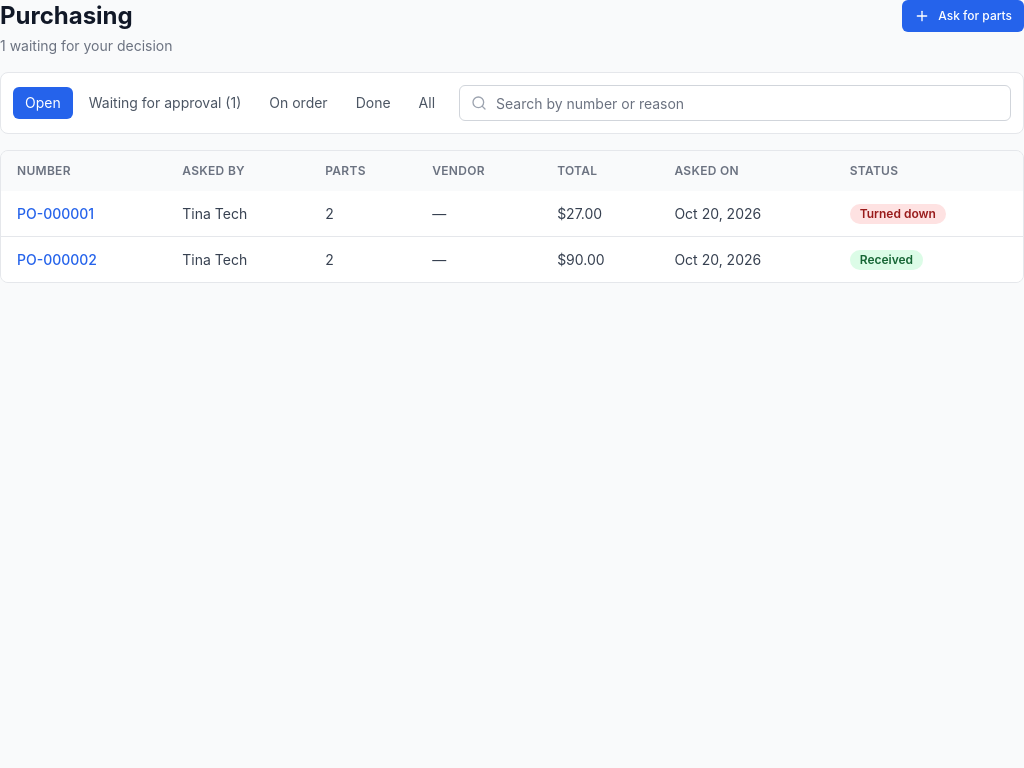
Scenario: PurchasingPage › shows why a request was turned down
Click the button "PO-000001": {"x": 56, "y": 214} [17,204,94,224]
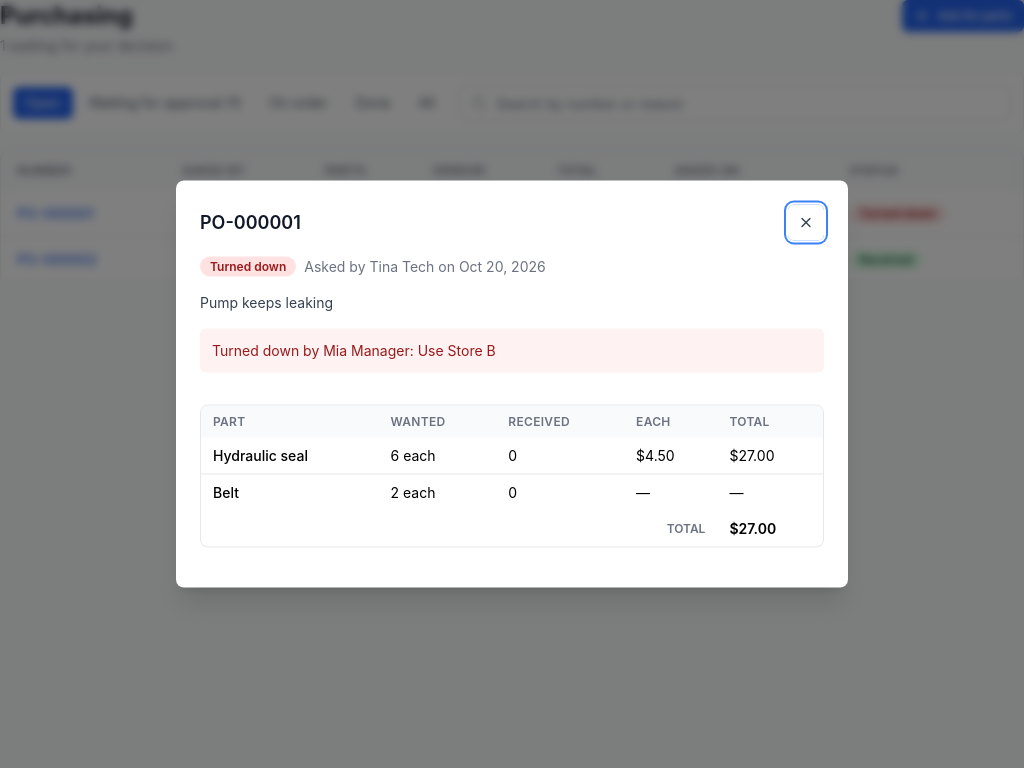
Expected: the text "Turned down by Mia Manager: Use Store B" is shown, [200,328,824,372]
